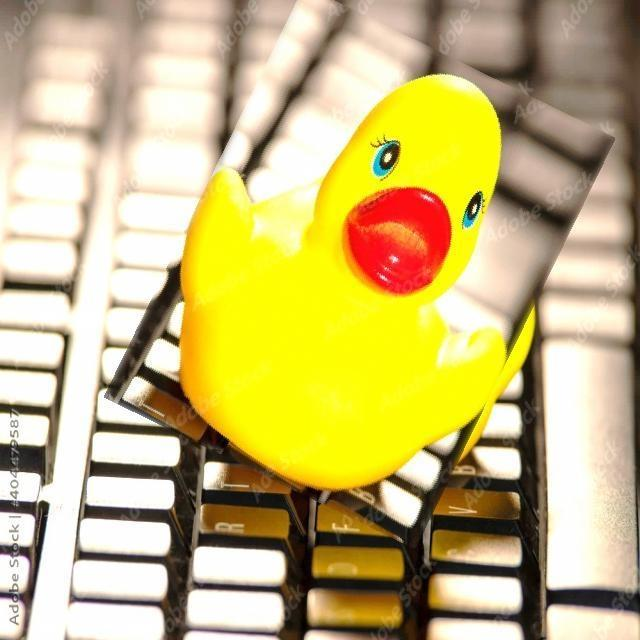rubber-duck: (119, 0, 596, 508), (145, 285, 187, 399)
